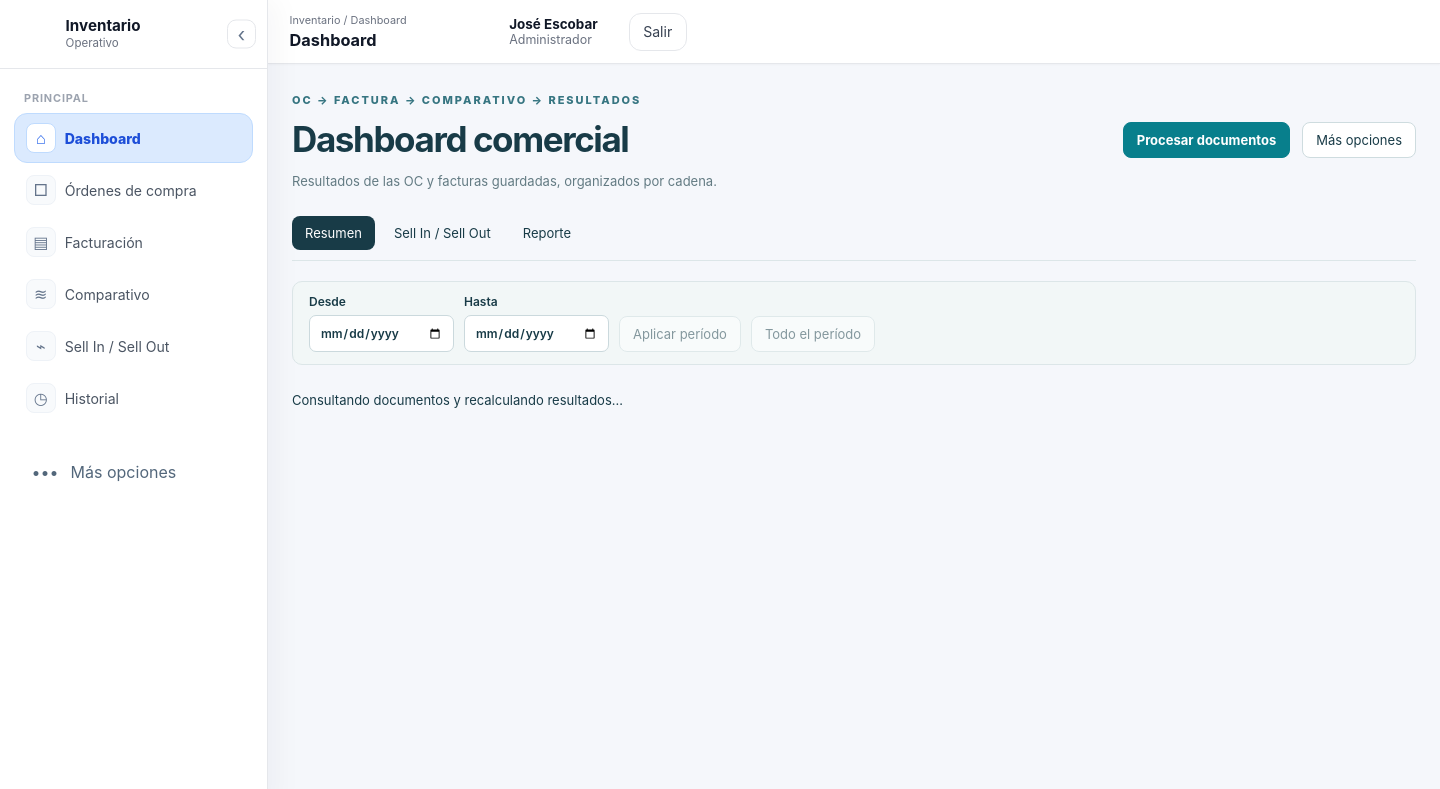
Test case: Dashboard › usa las acciones rápidas como navegación interna
The width and height of the screenshot is (1440, 789).
Click the button "▤ Facturación": x=134, y=242 left=14, top=217, right=253, bottom=267
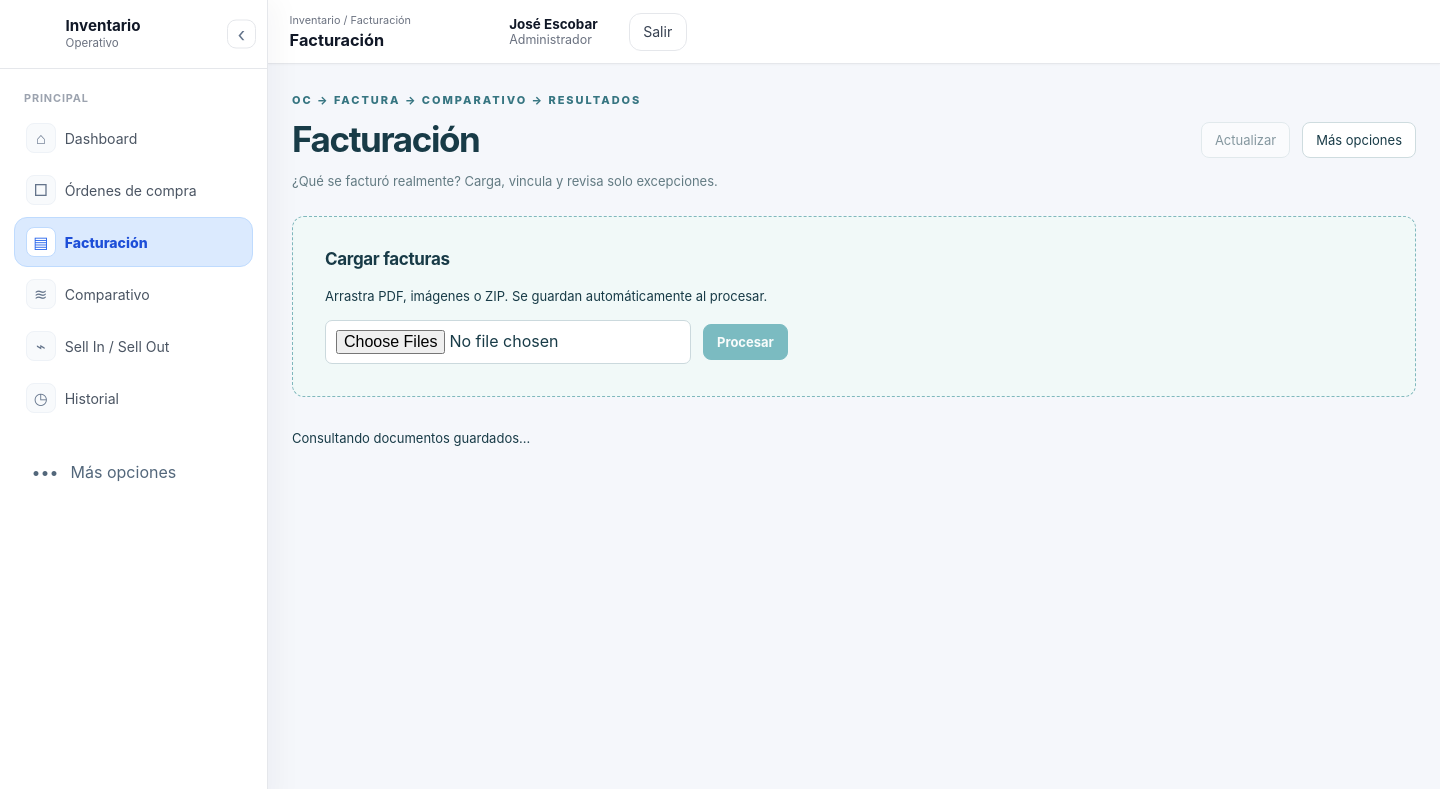
expect the button "Exportar" is not shown: met
expect the button "▤ Facturación" is marked as current: met, box left=14, top=217, right=253, bottom=267
Click the button with aria-label "Más funciones": x=134, y=472 left=14, top=448, right=253, bottom=496
(page scrolled)
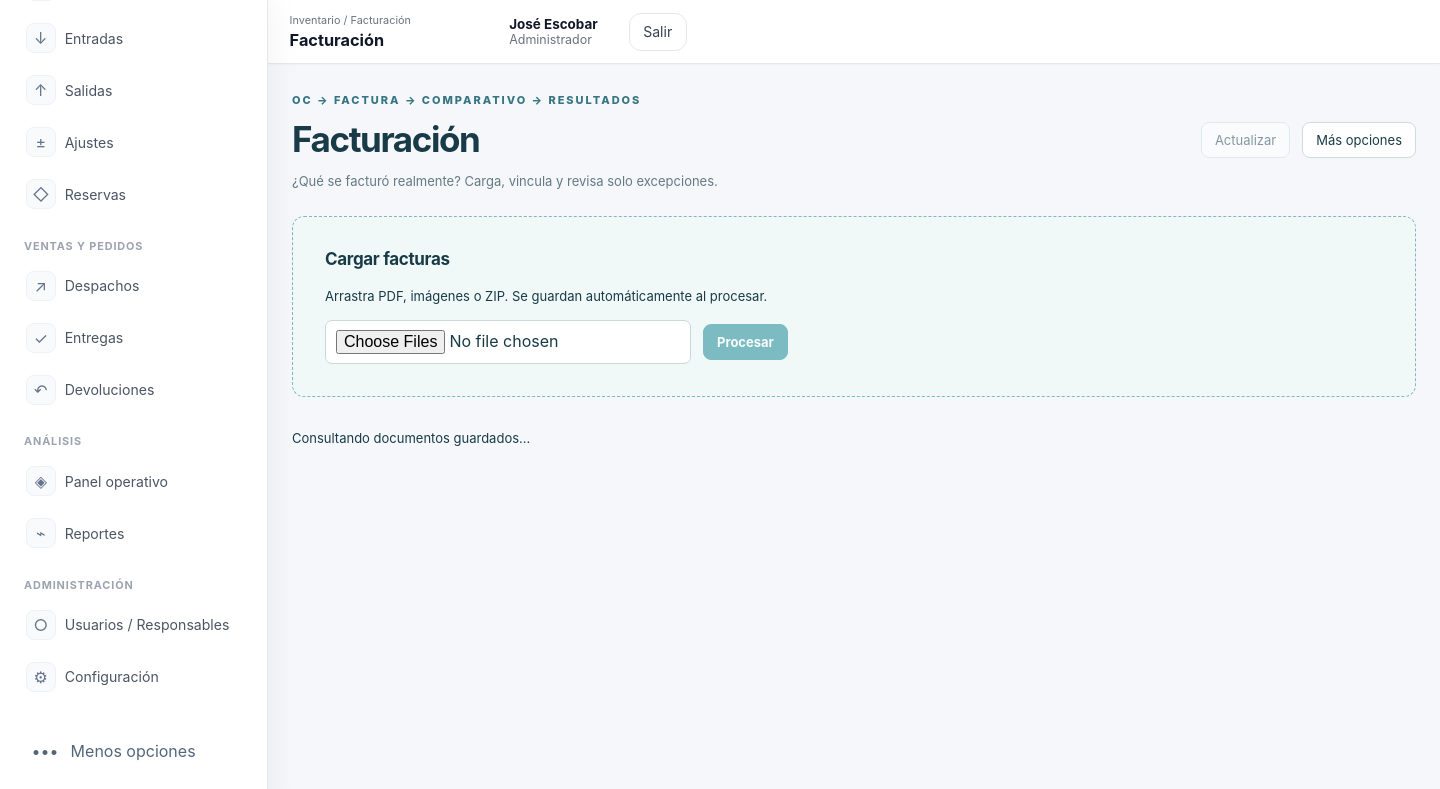
Click the button "⌁ Reportes": x=134, y=533 left=14, top=508, right=253, bottom=558
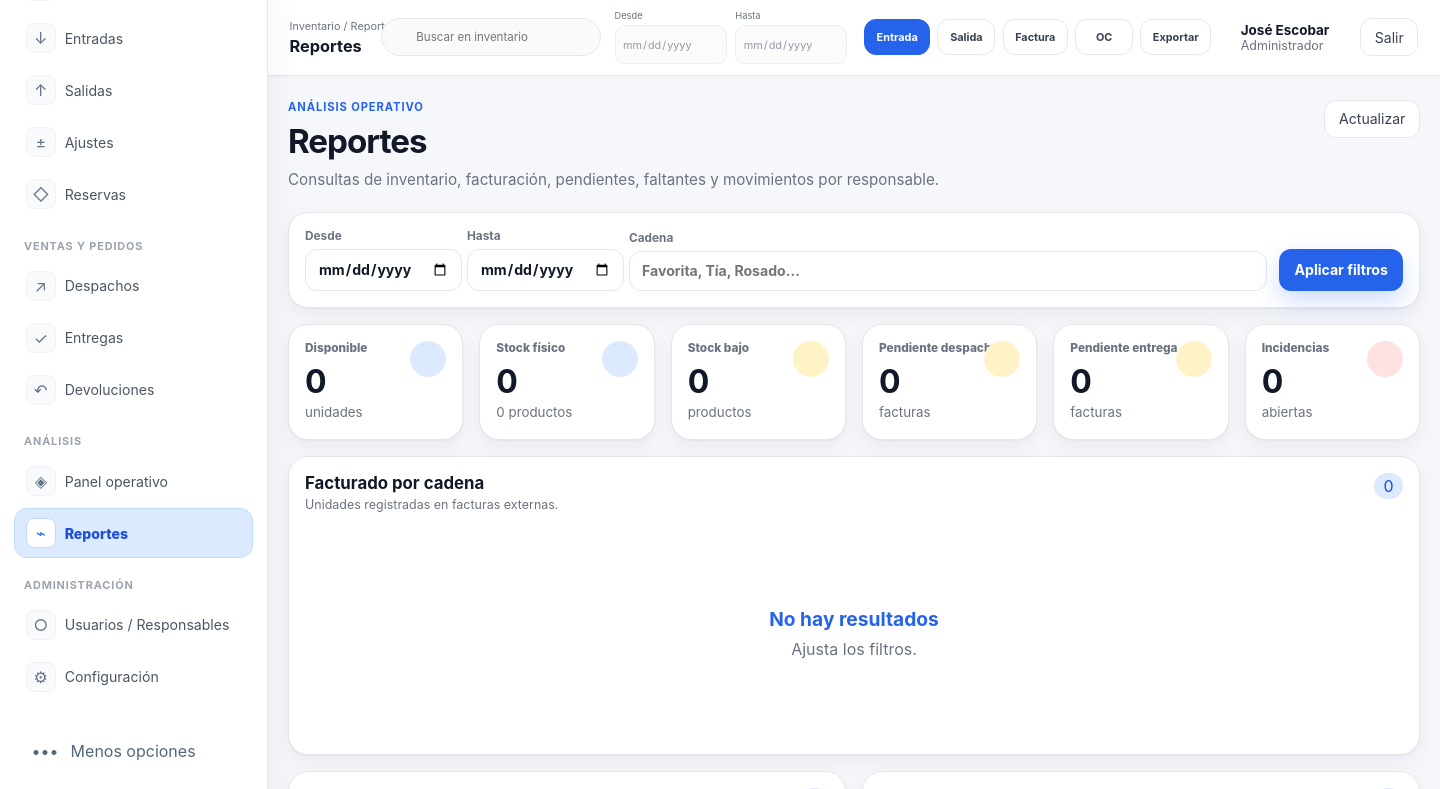
expect the heading "Reportes" is shown: met, box left=288, top=121, right=426, bottom=161
expect the heading "Facturado por cadena" is shown: met, box left=305, top=473, right=484, bottom=493
